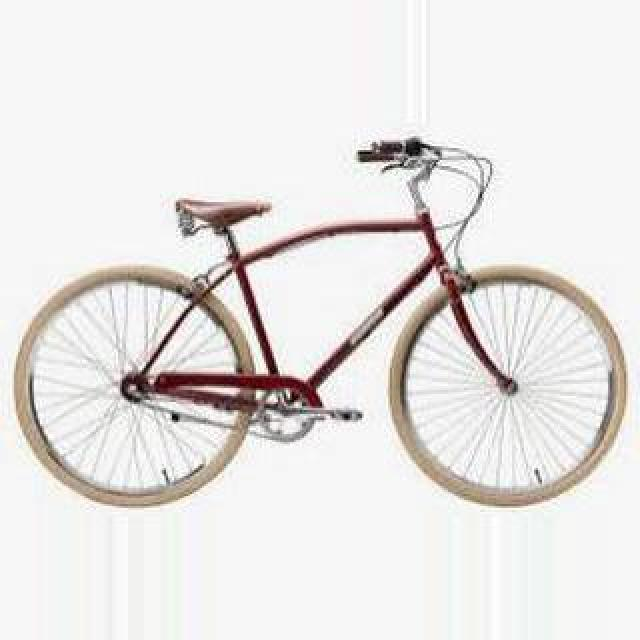Person: (9, 135, 629, 509)
